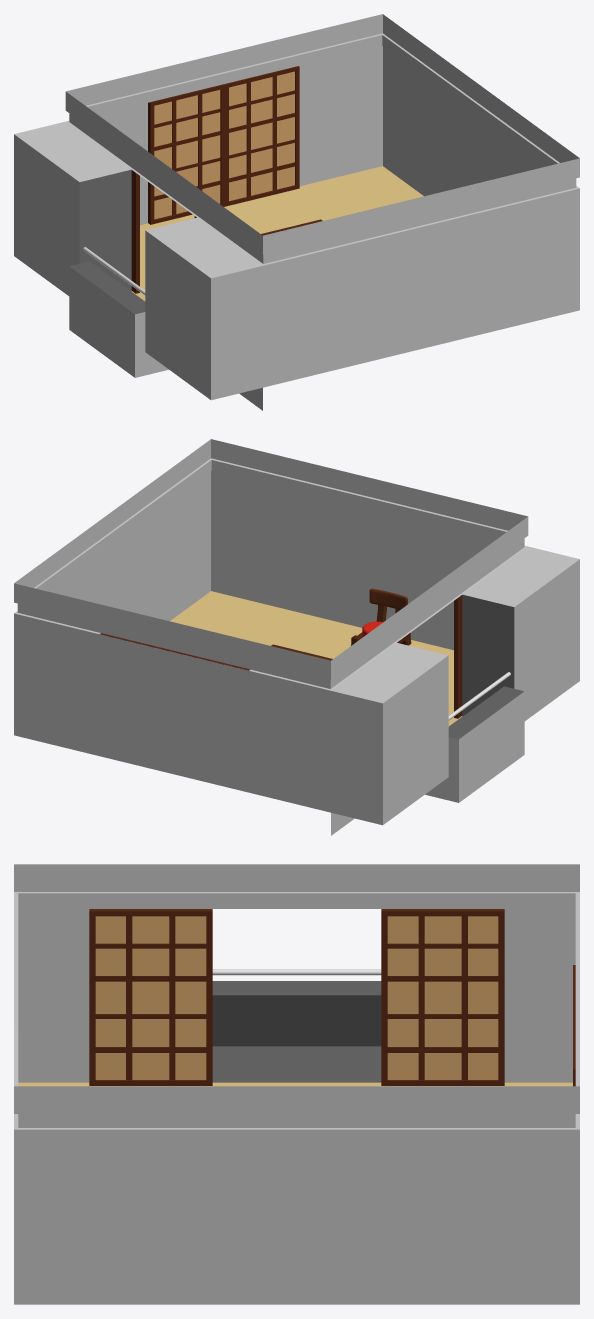
File: Japanese Room.fbx
3 renders of one model, top to bottom at view 1: azimuth 30°, elevation 25°; view 2: azimuth 150°, elevation 25°; view 3: azimuth 270°, elevation 25°, orthographic. The views are drawn at different scales.
Visible parts, largest first — view 1: Cube, Cube.003, Cube.002; view 2: Cube, Cube.002, Cube.006; view 3: Cube, Cube.002, Cube.001.
Boxes of the visible parts, x1,y1,x2,y2 form: Cube: (14,14,579,410); Cube.003: (148,66,299,224); Cube.002: (131,170,196,293); Cube: (14,439,579,835); Cube.002: (397,595,462,718); Cube.006: (369,588,407,609); Cube: (14,864,579,1304); Cube.002: (89,909,504,1085); Cube.001: (212,969,381,975).
Bounding box in the file's own units: 2048 × 948 × 1844.
